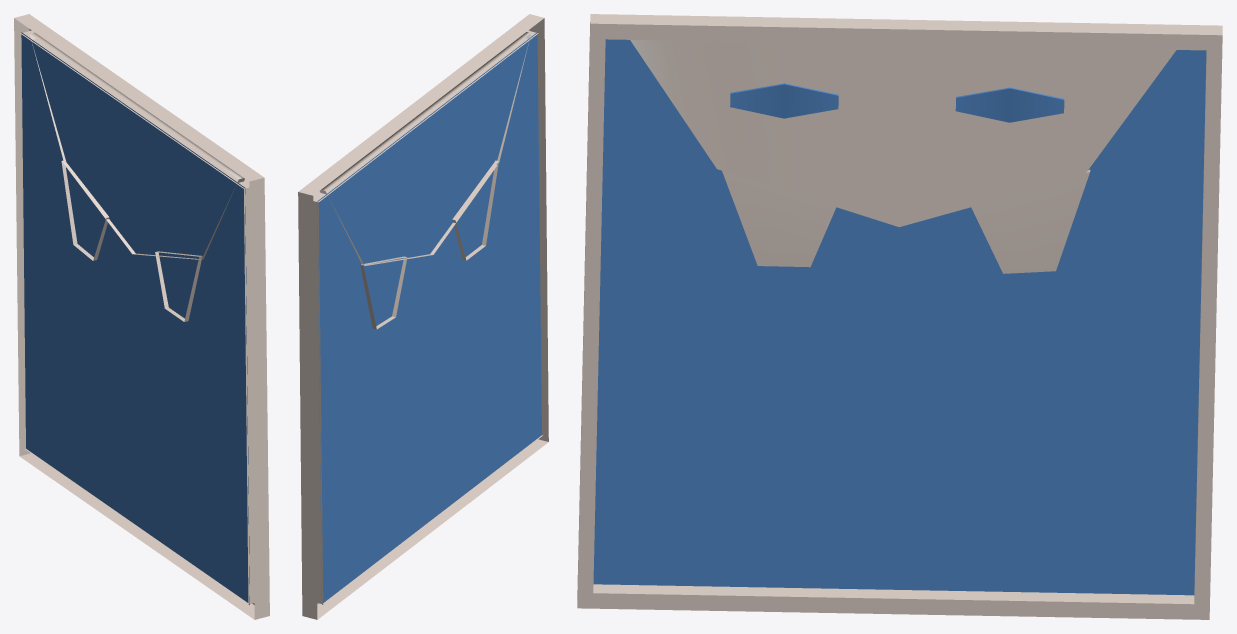
The model's file is Childroom2_Picture3.fbx.
The picture shows the model from 3 angles, left to right: view 1: azimuth 30°, elevation 25°; view 2: azimuth 150°, elevation 25°; view 3: azimuth 270°, elevation 25°; orthographic projection. The views are drawn at different scales.
Visible parts, largest first — view 1: Childroom2_Picture3; view 2: Childroom2_Picture3; view 3: Childroom2_Picture3.
Boxes of the visible parts, x1,y1,x2,y2 form: Childroom2_Picture3: (14, 14, 269, 619); Childroom2_Picture3: (298, 14, 548, 619); Childroom2_Picture3: (577, 14, 1222, 619).
Bounding box in the file's own units: 3.61 × 82.52 × 80.95.
